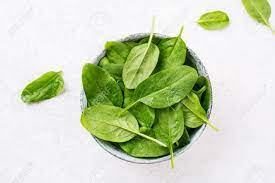spinach: (106, 55, 182, 135)
